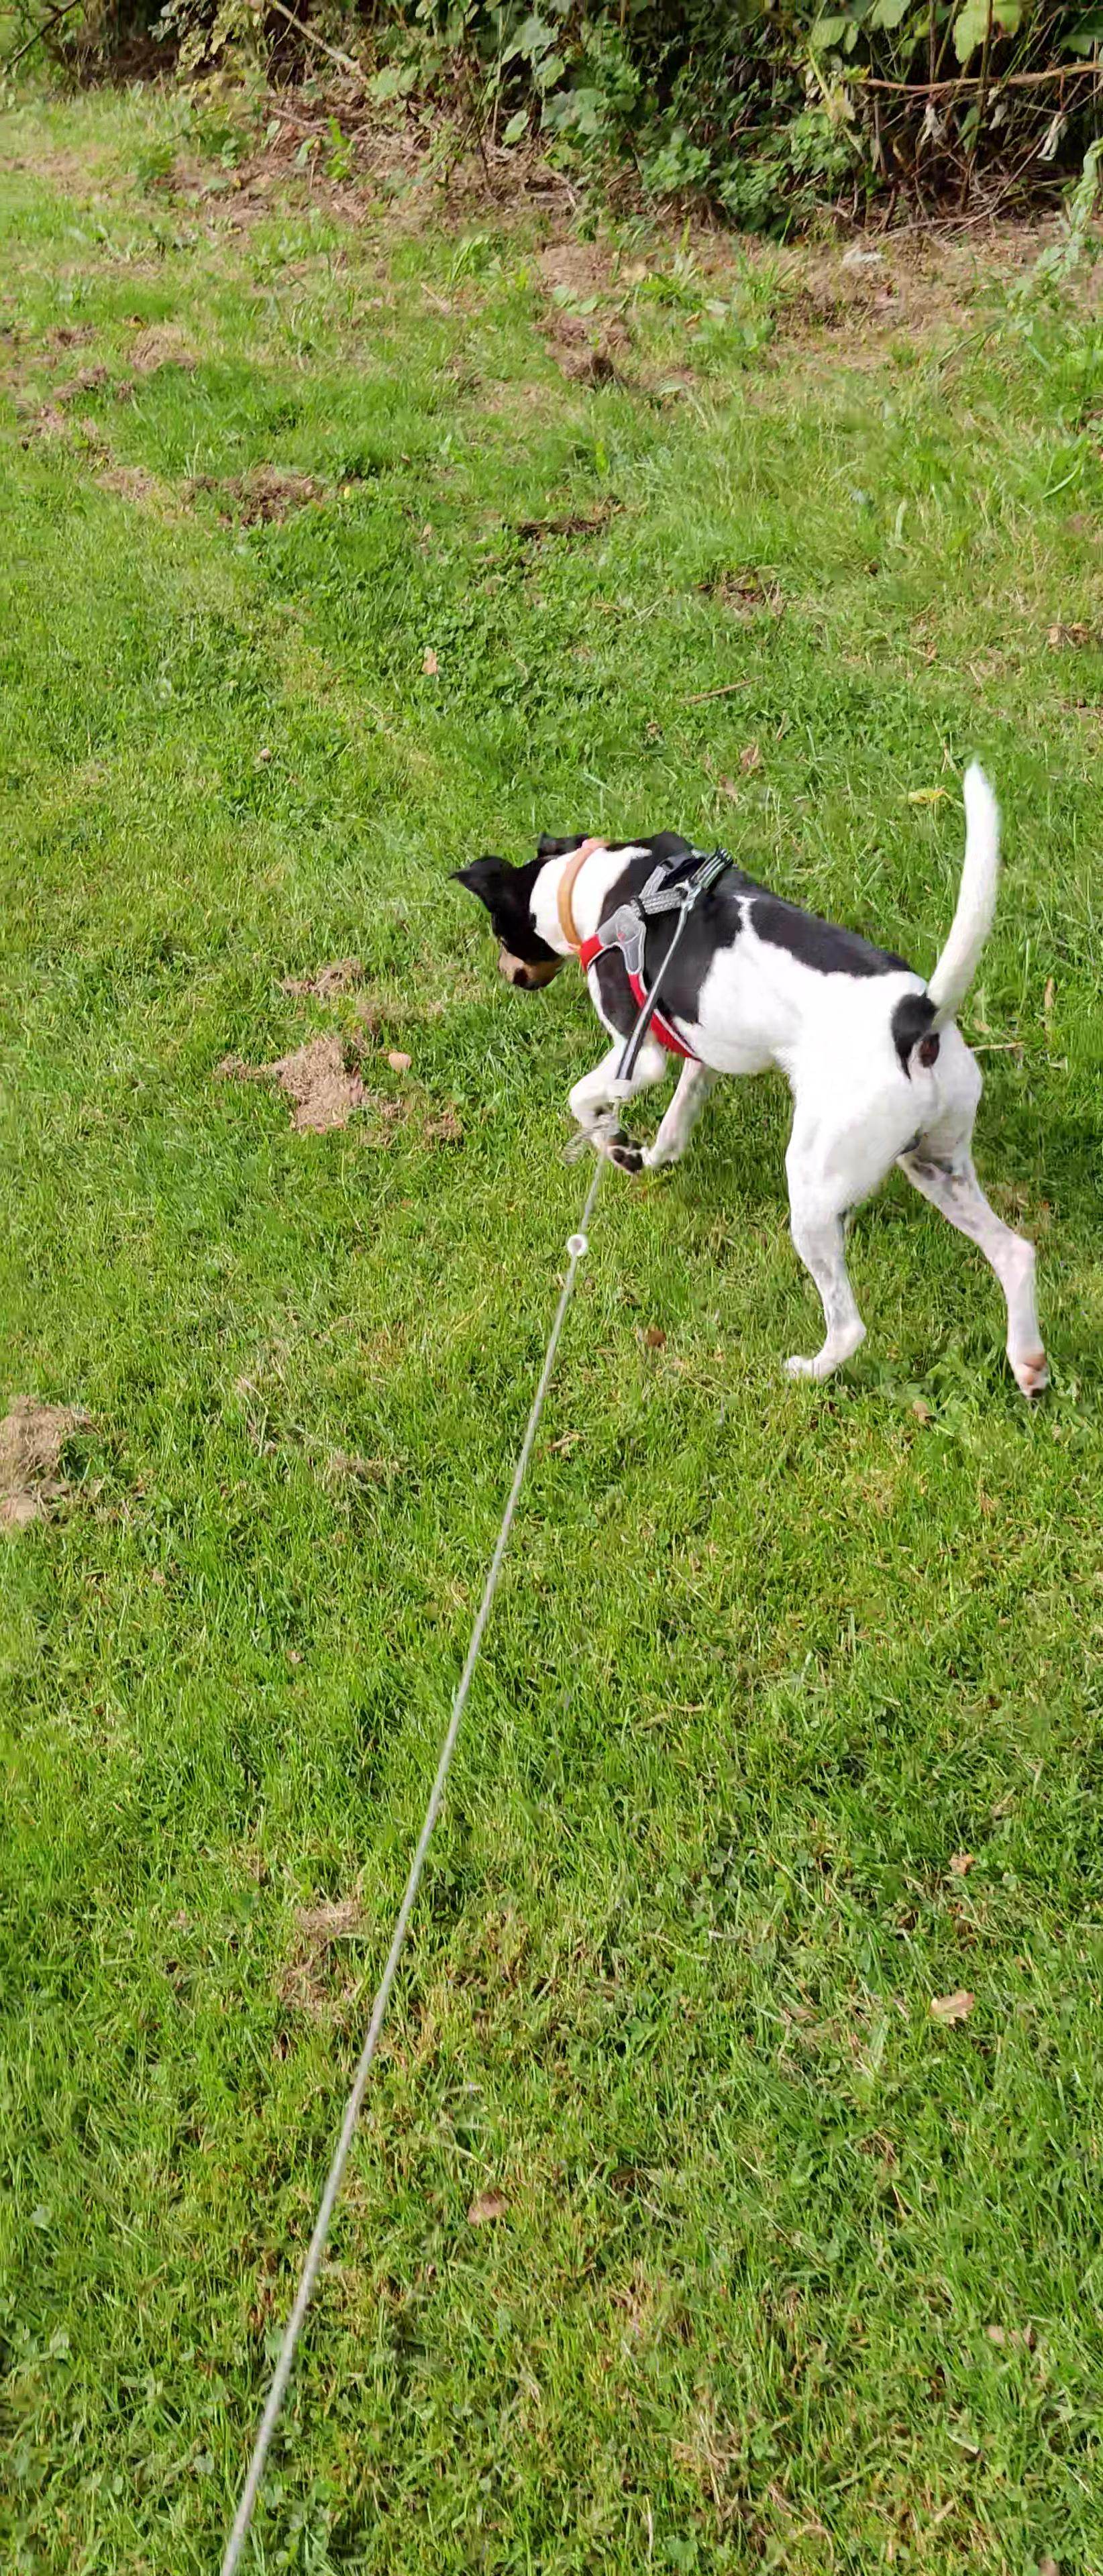Dog: (442, 749, 1055, 1403)
